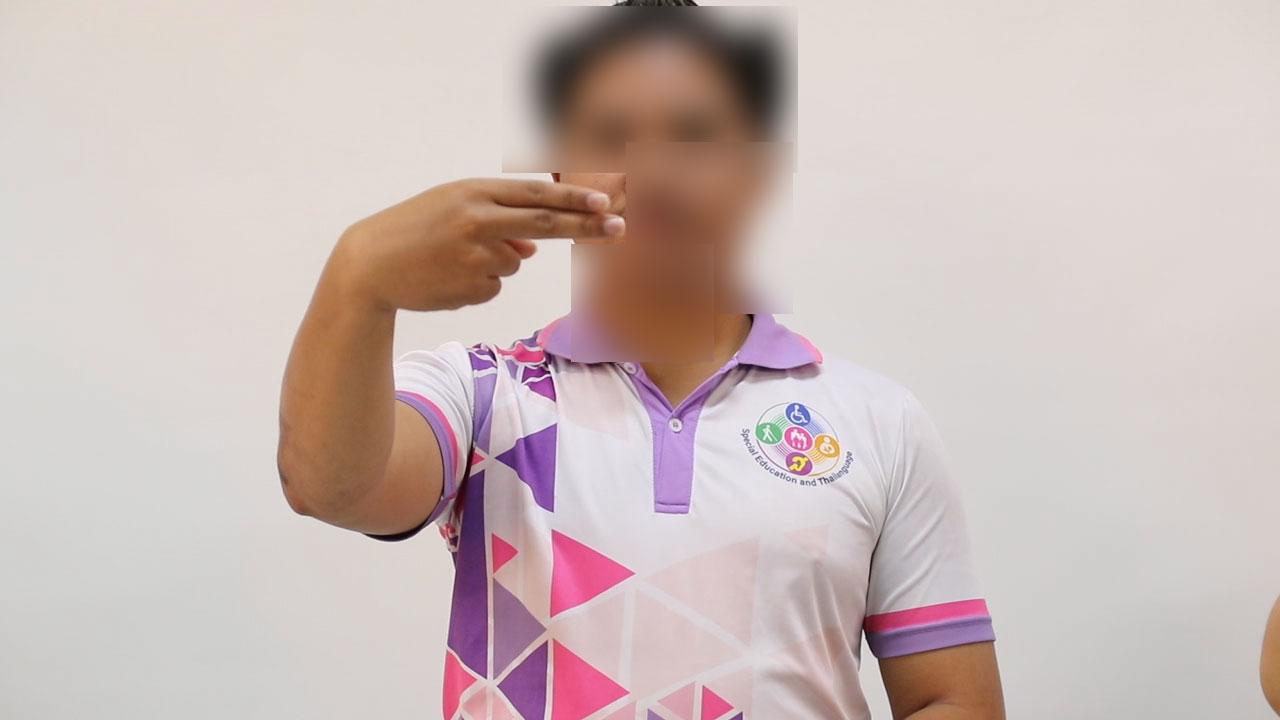hor: (327, 155, 628, 323)
